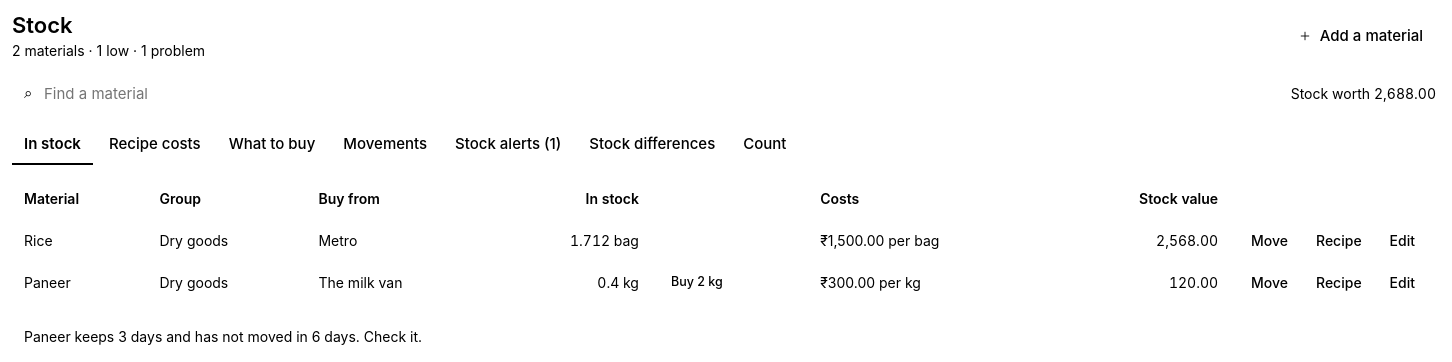
Test case: the stock screen › groups the buy list by where you buy it
Click the tab "What to buy" at (272, 146), box [217,126,327,164]
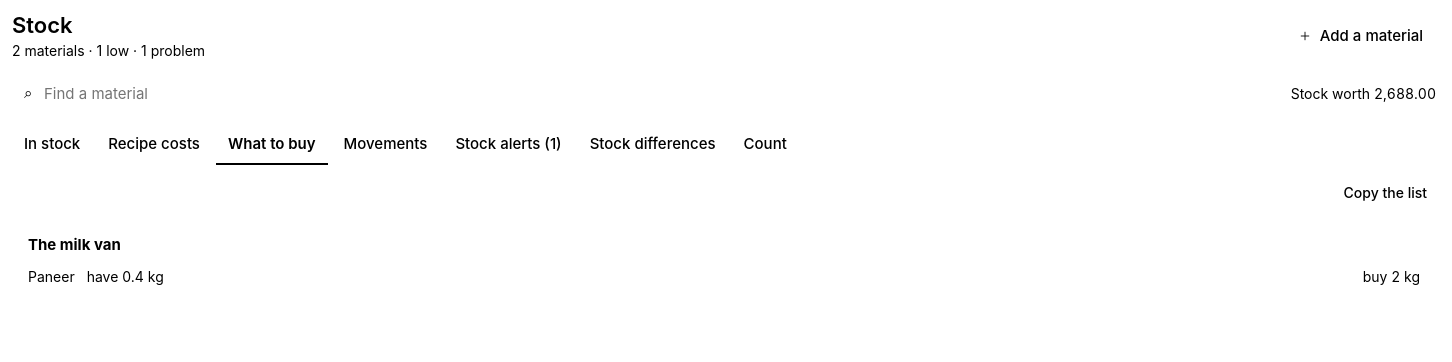
Expected: the text "The milk van" is shown, [28,234,121,254]
Now the text "have 0.4 kg" is shown, box [87,266,164,287]
